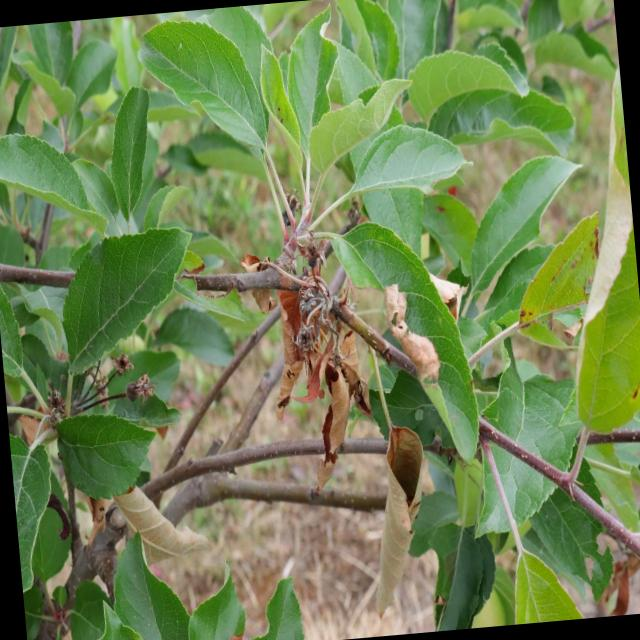-FireBlight-: (238, 238, 371, 486)
